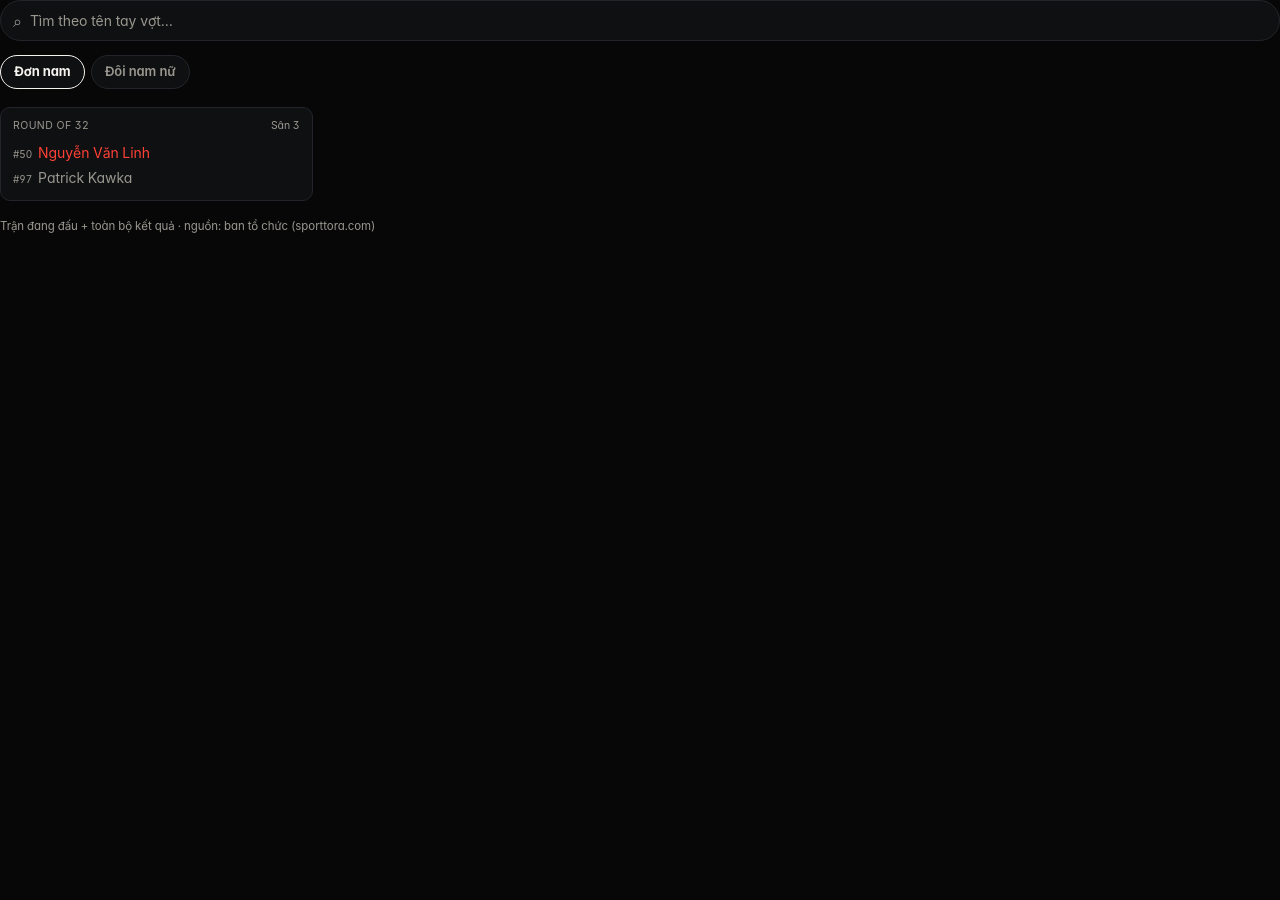
it: WorldCupProContent › renders a sub-tab per event, singles before doubles, and switches on click
This screenshot has width=1280, height=900.
Expected: the text "#50 Nguyễn Văn Linh" is shown, [13,142,150,163]
switch to mixed → its match shows
Click the tab "Đôi nam nữ" at [140, 72], box [91,55,190,88]
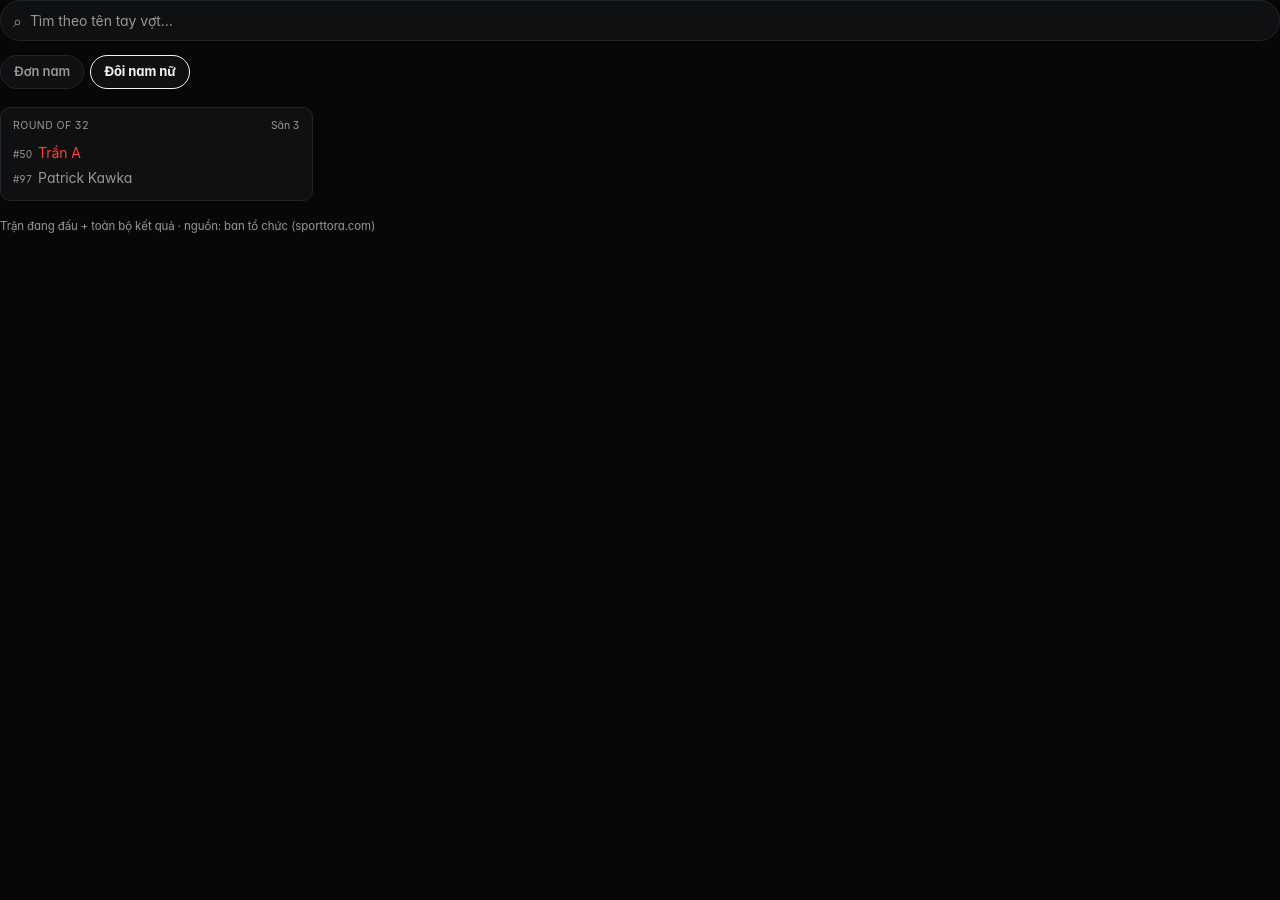
Expected: the text "#50 Trần A" is shown, [13,142,81,163]
